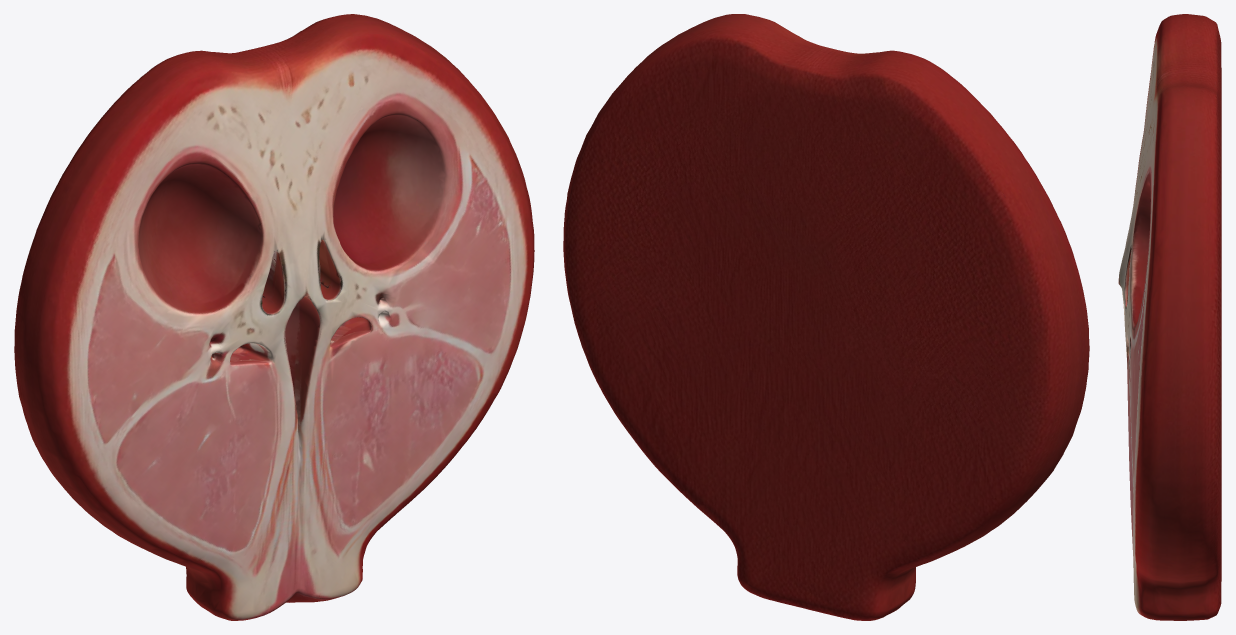
Rendered from vet_v2_organ_cow_udder.glb.
The picture shows the model from 3 angles, left to right: view 1: azimuth 30°, elevation 25°; view 2: azimuth 150°, elevation 25°; view 3: azimuth 270°, elevation 25°; orthographic projection. The views are drawn at different scales.
Visible parts, largest first — view 1: model; view 2: model; view 3: model.
Part boxes in pixels (box(x1,y1,x2,y2)): model: box(14, 14, 534, 620); model: box(563, 14, 1089, 620); model: box(1118, 14, 1221, 620).
Bounding box in the file's own units: 1.78 × 1.9 × 0.3307.
1 material, 1 textured.
